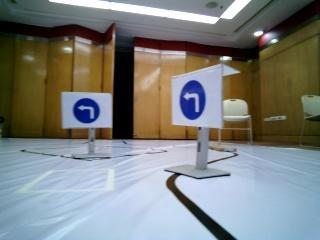left: (170, 73, 220, 126), (62, 94, 113, 126)
